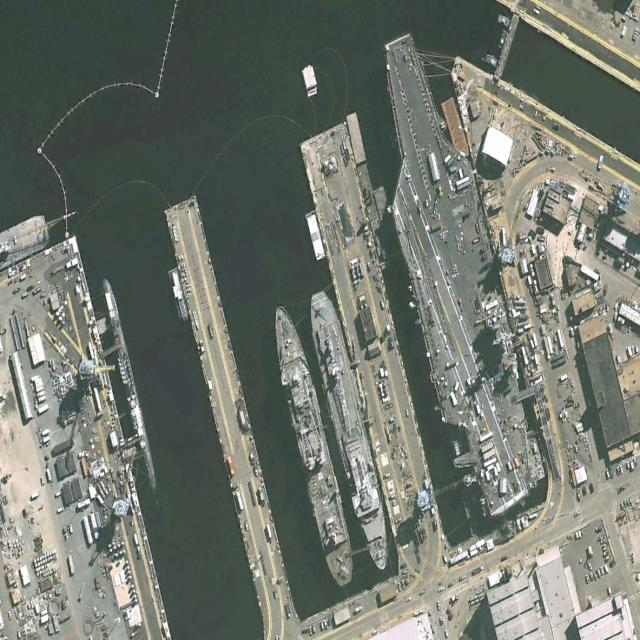Aircraft Carrier: (354, 19, 551, 531)
Other Ship: (264, 297, 361, 591), (302, 285, 398, 578)
Submarine: (98, 274, 160, 496)
